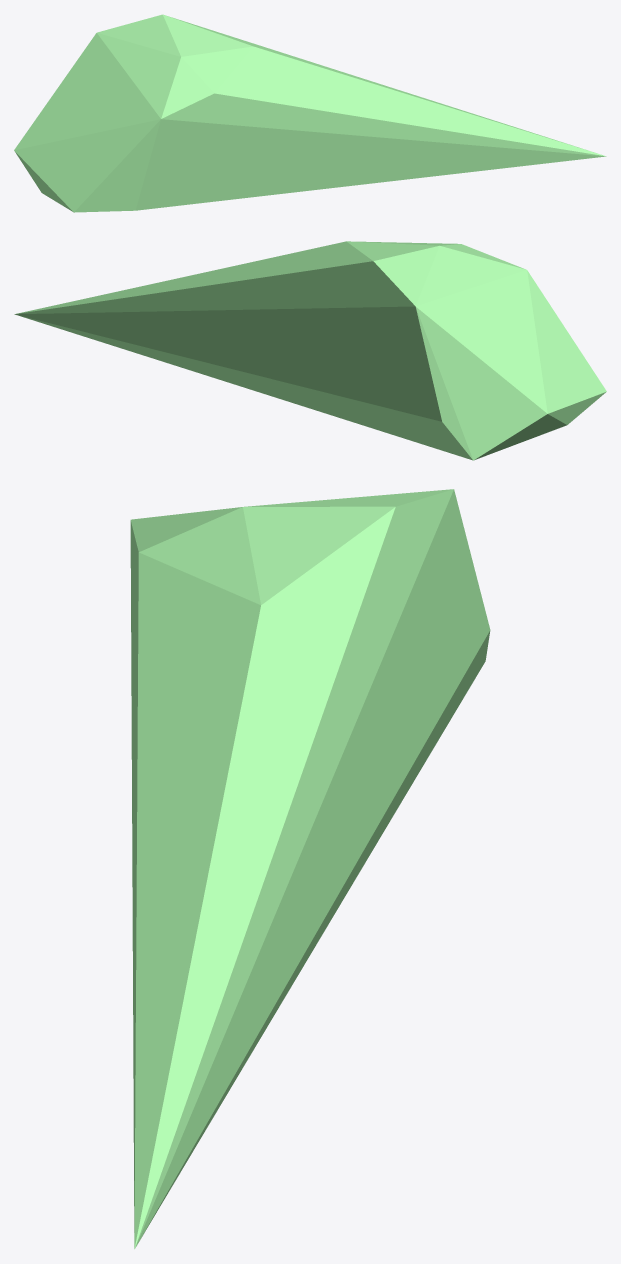
The model's file is UMIRobot_UMIRobot_link_2_convex_coll_7.dae.
3 renders of one model, top to bottom at view 1: azimuth 30°, elevation 25°; view 2: azimuth 150°, elevation 25°; view 3: azimuth 270°, elevation 25°, orthographic. The views are drawn at different scales.
Visible parts, largest first — view 1: node; view 2: node; view 3: node.
Boxes of the visible parts, box(x1,y1,x2,y2) form: node: box(14, 14, 606, 212); node: box(14, 241, 606, 460); node: box(130, 489, 490, 1249).
Bounding box in the file's own units: 0.0512 × 0.0173 × 0.0151.
